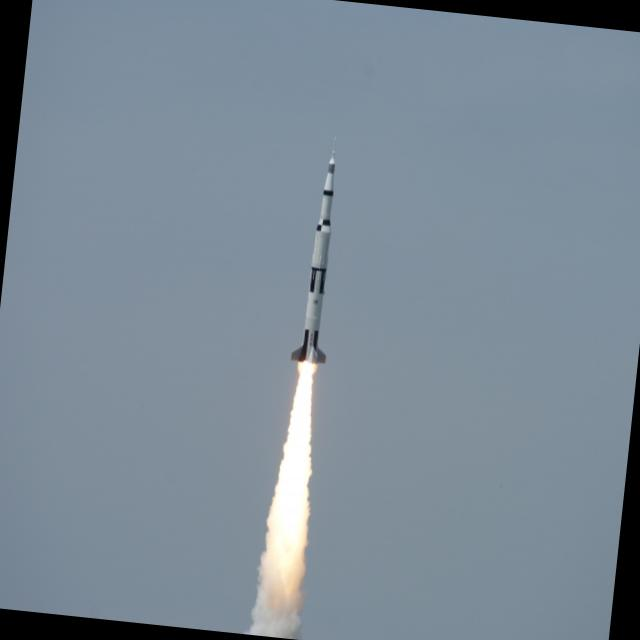rocket: (272, 134, 346, 574)
